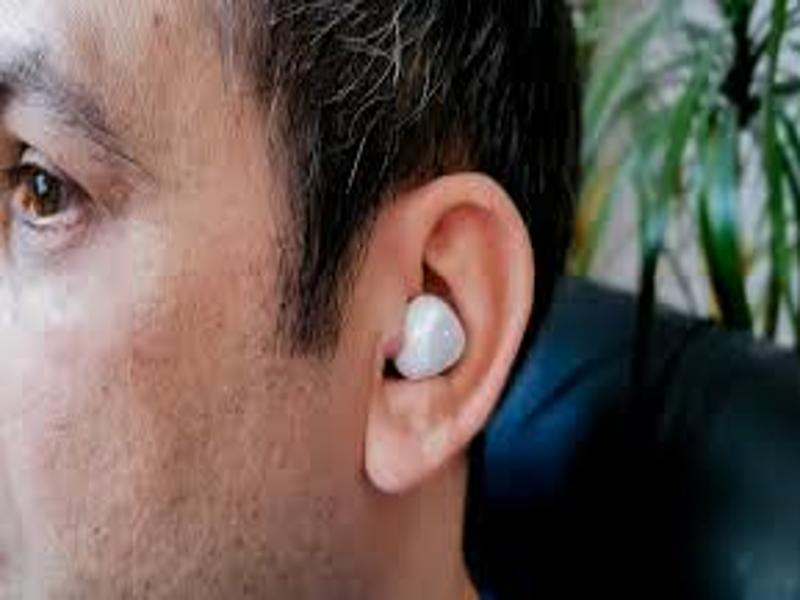headphone: (392, 289, 471, 379)
